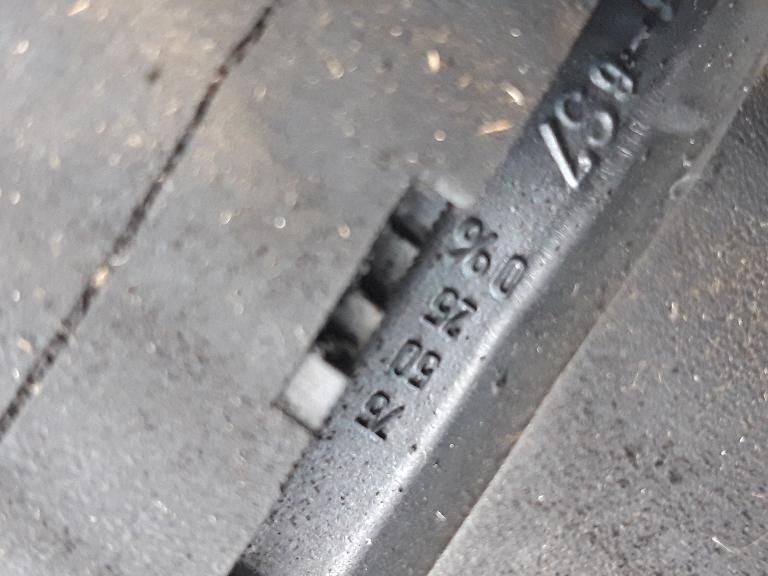temoin:75: (258, 157, 483, 454)
